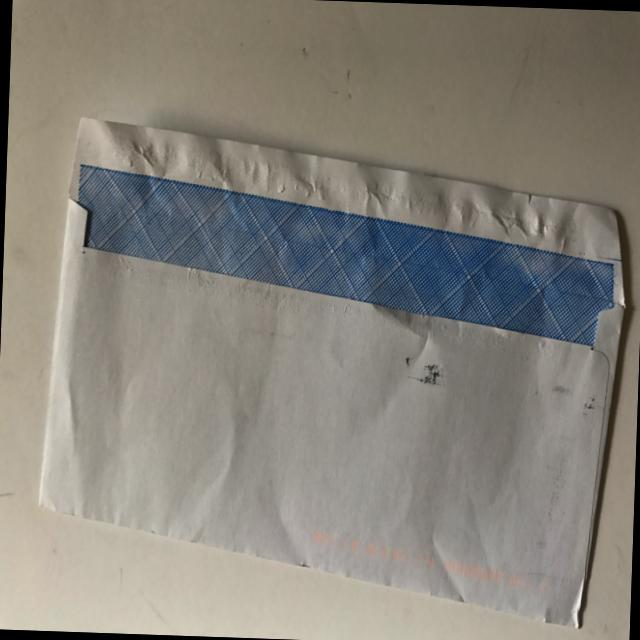Paper: (28, 59, 640, 629)
